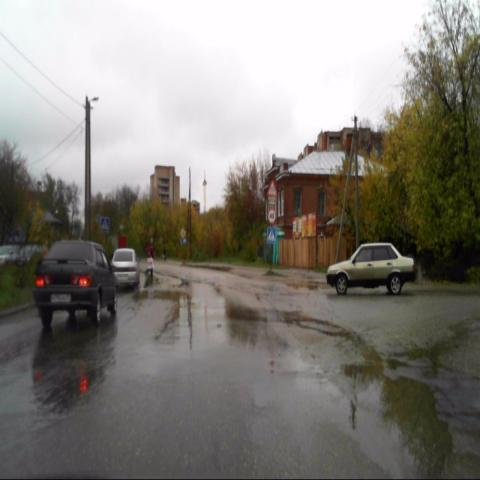1_23: (267, 180, 277, 196)
3_24: (268, 209, 276, 223)
5_19_1: (266, 226, 276, 243), (101, 217, 109, 232)
